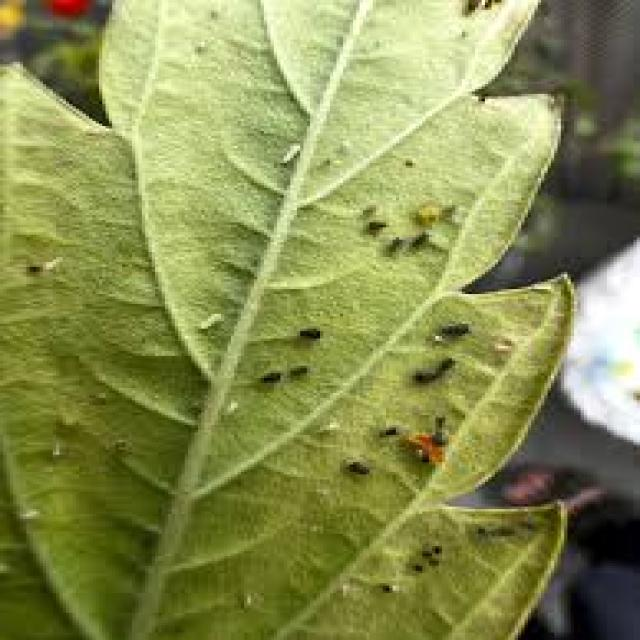aphid: (426, 312, 478, 338), (284, 314, 326, 343), (247, 358, 287, 388), (353, 208, 393, 235), (439, 0, 488, 20), (336, 452, 373, 477), (373, 415, 406, 442), (277, 356, 314, 378), (426, 351, 458, 375), (376, 230, 406, 254), (403, 225, 432, 249), (16, 254, 43, 276), (406, 363, 435, 383), (373, 574, 396, 596), (422, 536, 449, 554), (402, 556, 426, 573), (419, 548, 439, 566)
